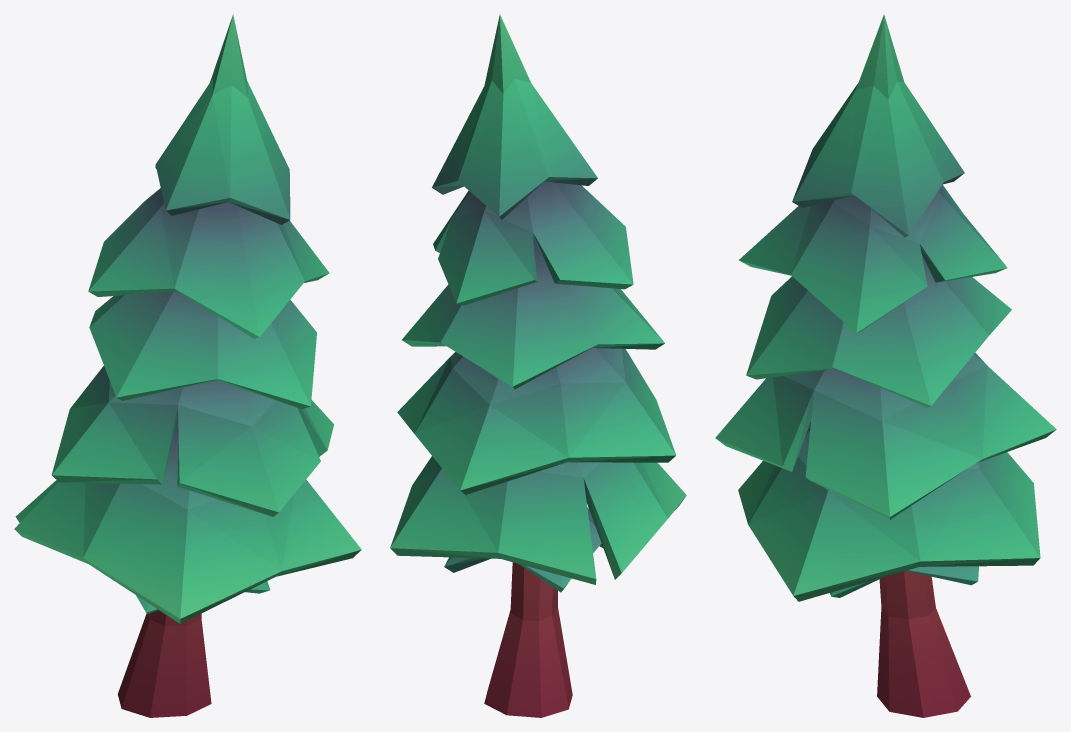
File: Tree_Pine_3_SM.fbx
The picture shows the model from 3 angles, left to right: view 1: azimuth 30°, elevation 25°; view 2: azimuth 150°, elevation 25°; view 3: azimuth 270°, elevation 25°; orthographic projection. The views are drawn at different scales.
Parts seen in each view (by area): view 1: Pine Tree 3; view 2: Pine Tree 3; view 3: Pine Tree 3.
Boxes of the visible parts, left/top/right/bottom form: Pine Tree 3: left=14, top=14, right=361, bottom=717; Pine Tree 3: left=390, top=14, right=686, bottom=717; Pine Tree 3: left=715, top=14, right=1056, bottom=717.
Size of the model in its own units: 161 by 369 by 161.
